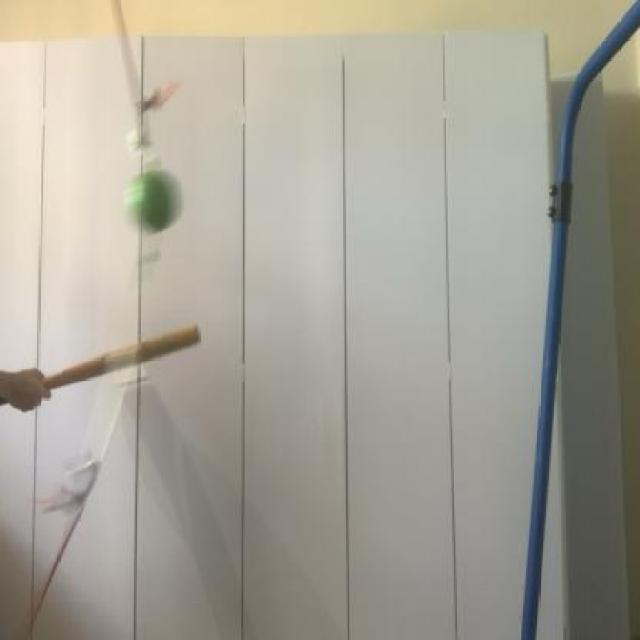baseball: (111, 148, 195, 250)
